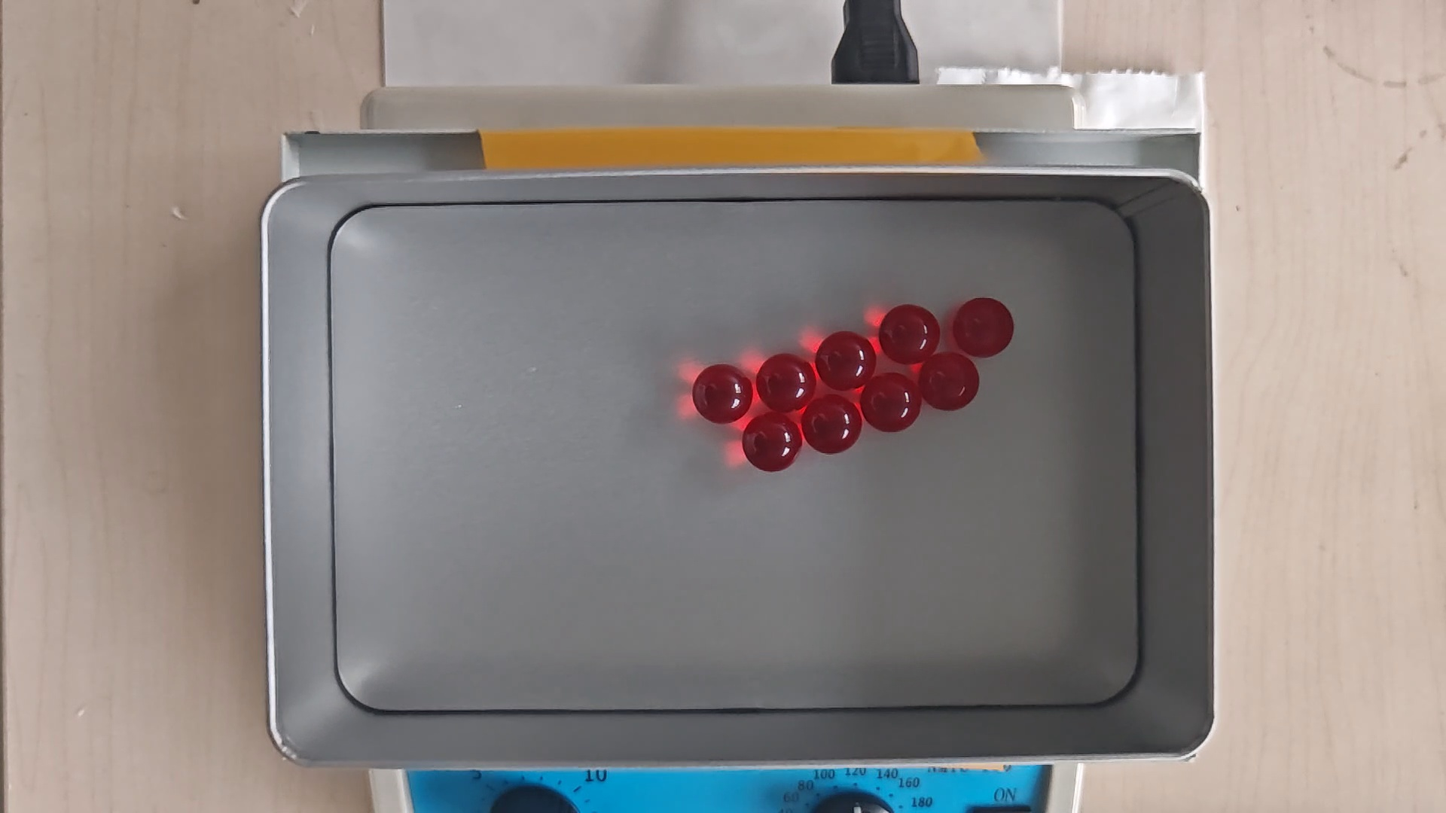ball: (693, 362, 753, 425), (954, 297, 1014, 358), (862, 371, 921, 433), (879, 304, 939, 364), (803, 395, 862, 455), (817, 331, 875, 392), (743, 412, 801, 472), (757, 353, 815, 412), (920, 352, 978, 410)
container: (332, 199, 1138, 710)
